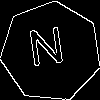N: (26, 26, 68, 76)
